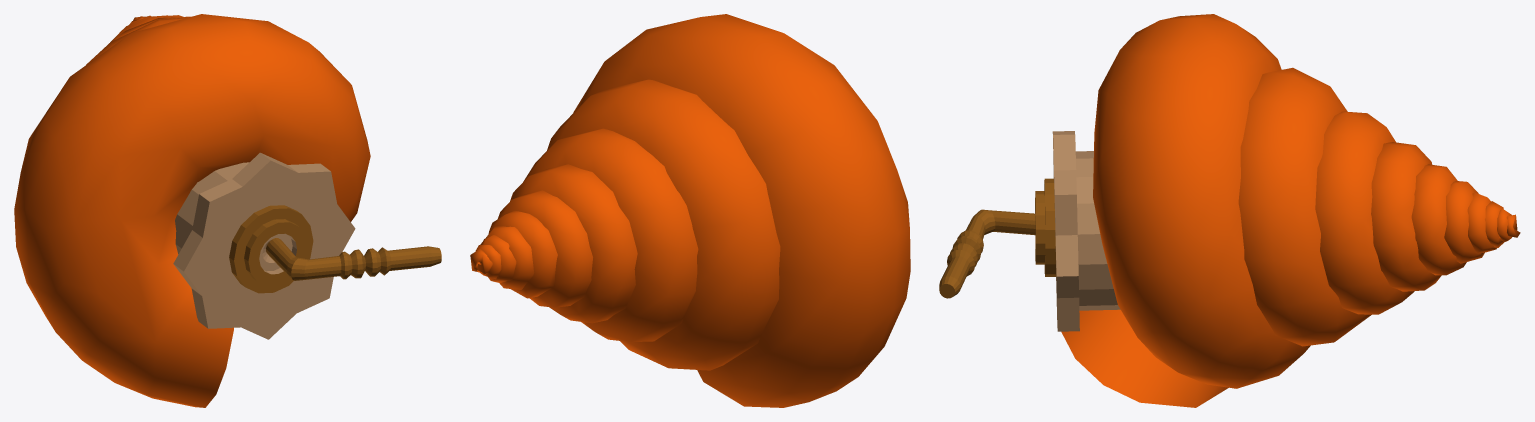
Rendered from manivela off idle.fbx.
The picture shows the model from 3 angles, left to right: view 1: azimuth 30°, elevation 25°; view 2: azimuth 150°, elevation 25°; view 3: azimuth 270°, elevation 25°; orthographic projection. The views are drawn at different scales.
Visible parts, largest first — view 1: búzio, roda, manípulo; view 2: búzio; view 3: búzio, roda, manípulo.
Part boxes in pixels (x1,y1,x2,y2): búzio: [14, 14, 370, 407]; roda: [173, 152, 355, 339]; manípulo: [266, 238, 441, 280]; búzio: [470, 14, 910, 407]; búzio: [1061, 14, 1520, 407]; roda: [1035, 131, 1120, 331]; manípulo: [939, 209, 1035, 298].
Size of the model in its own units: 200 by 213 by 292.
